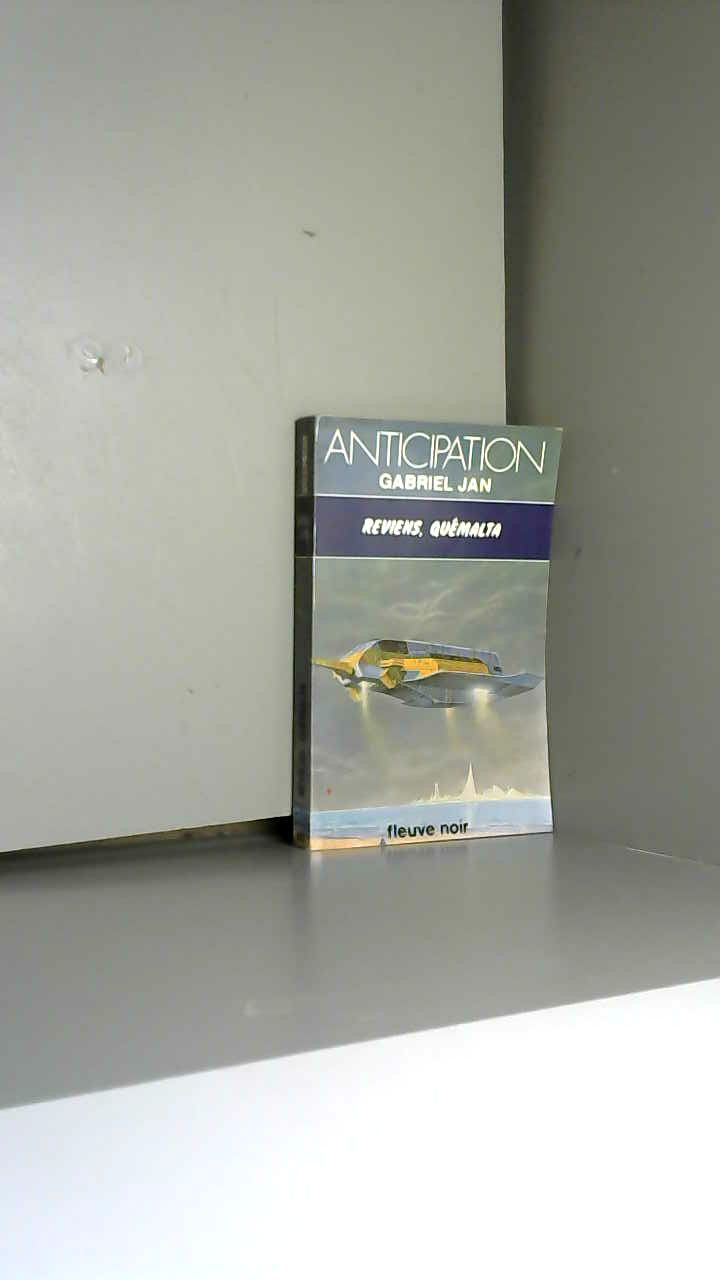book: (261, 375, 596, 895)
